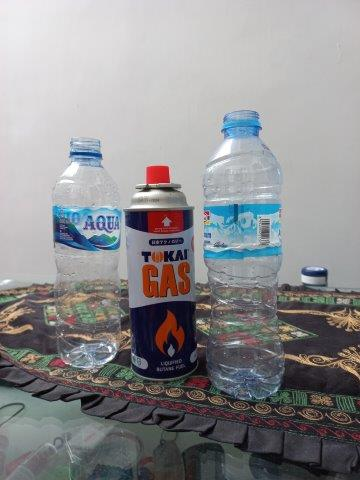botolplastik: (203, 110, 282, 401), (52, 136, 122, 368)
